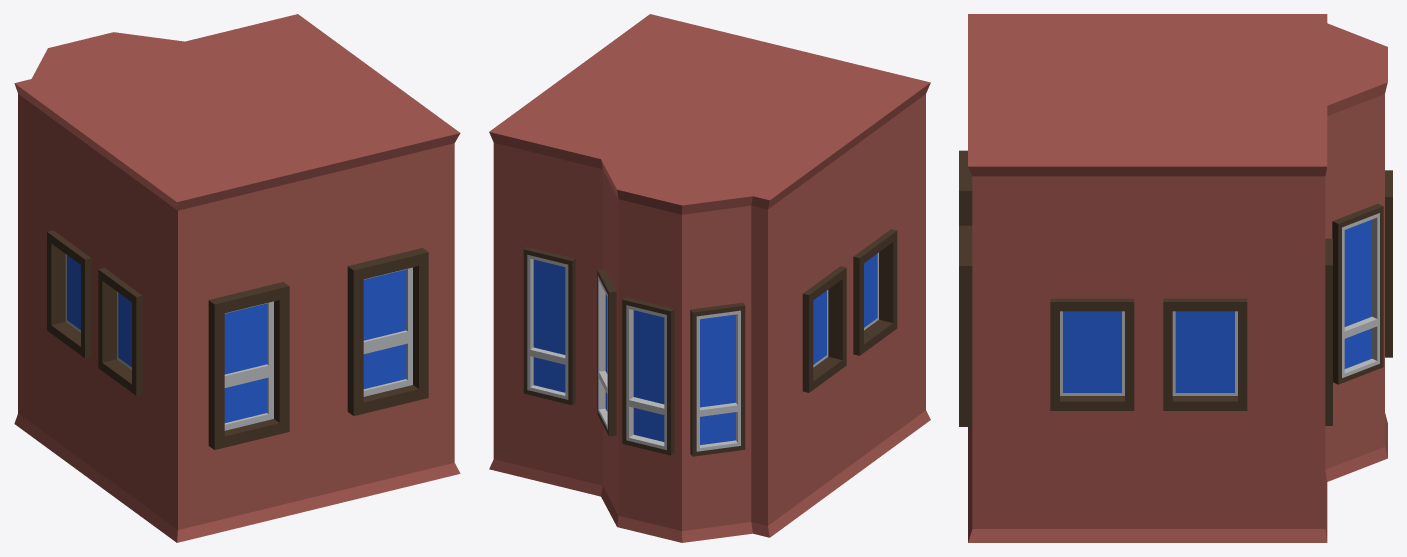
The model's file is building_1x1_3_f.glb.
3 renders of one model, left to right at view 1: azimuth 30°, elevation 25°; view 2: azimuth 150°, elevation 25°; view 3: azimuth 270°, elevation 25°, orthographic. The views are drawn at different scales.
Parts seen in each view (by area): view 1: SecondFloor; view 2: SecondFloor; view 3: SecondFloor.
Boxes of the visible parts, left/top/right/bottom form: SecondFloor: left=14, top=14, right=460, bottom=542; SecondFloor: left=489, top=14, right=930, bottom=542; SecondFloor: left=959, top=14, right=1392, bottom=542.
Size of the model in its own units: 1.42 by 1.6 by 1.67.
